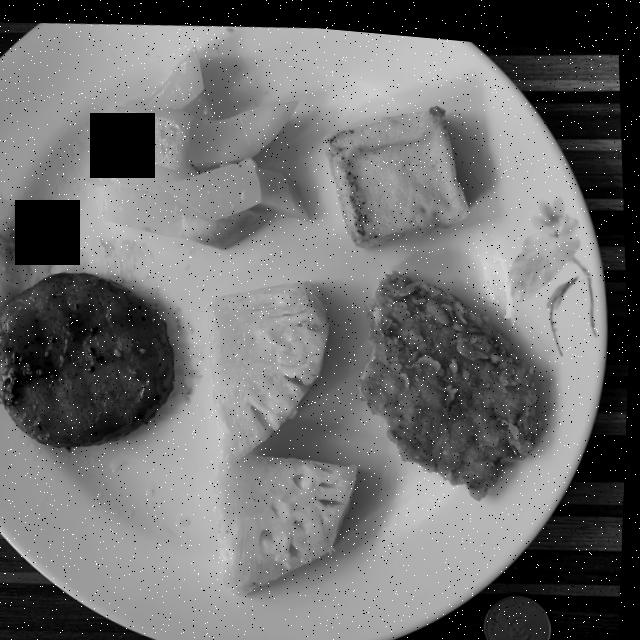coin: (487, 586, 555, 640)
creamy tofu -without sauce-: (325, 98, 469, 240)
fish cake: (0, 271, 175, 447)
fried chicken cutlet: (360, 264, 542, 491)
pineapple: (209, 275, 360, 590)
